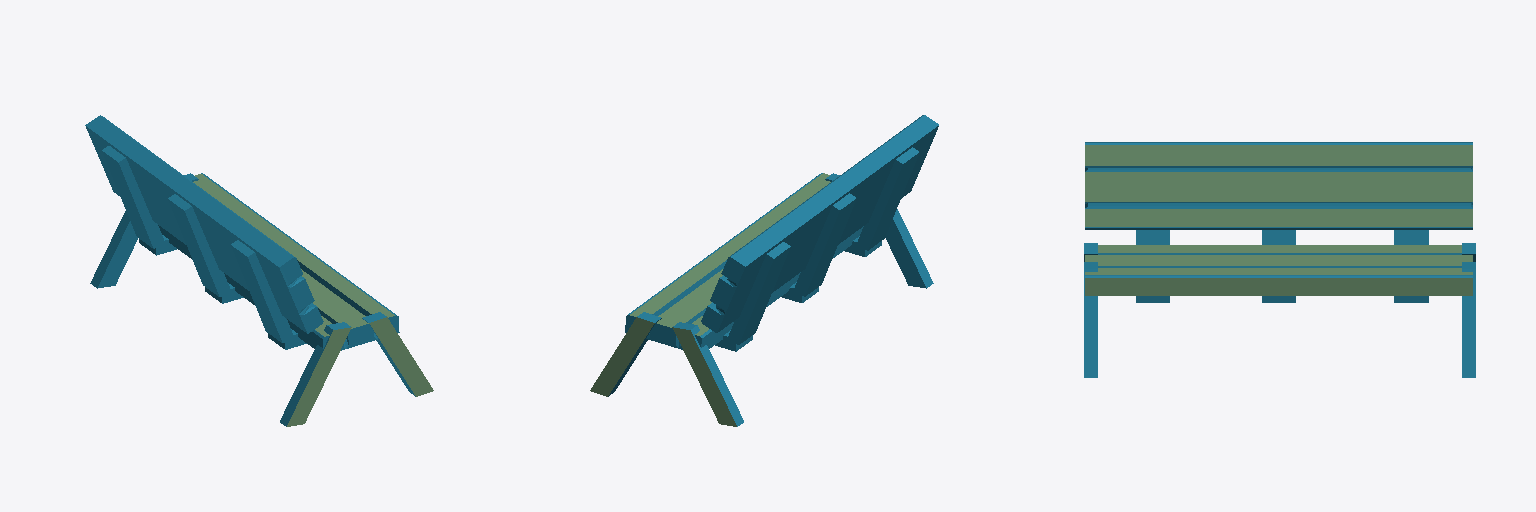
The model's file is bench.obj.
The picture shows the model from 3 angles: view 1: azimuth 30°, elevation 25°; view 2: azimuth 150°, elevation 25°; view 3: azimuth 270°, elevation 25°; orthographic projection.
Visible parts, largest first — view 1: Box001, planks2, planks; view 2: Box001, planks2, planks; view 3: planks, Box001.
Boxes of the visible parts, box(x1,y1,x2,y2) form: Box001: box(85, 115, 415, 426); planks2: box(86, 126, 322, 348); planks: box(193, 174, 433, 426); Box001: box(608, 115, 938, 426); planks2: box(701, 126, 938, 348); planks: box(590, 173, 830, 426); planks: box(1085, 145, 1472, 295); Box001: box(1084, 142, 1475, 377).
Size of the model in its own units: 82.91 by 83.26 by 176.